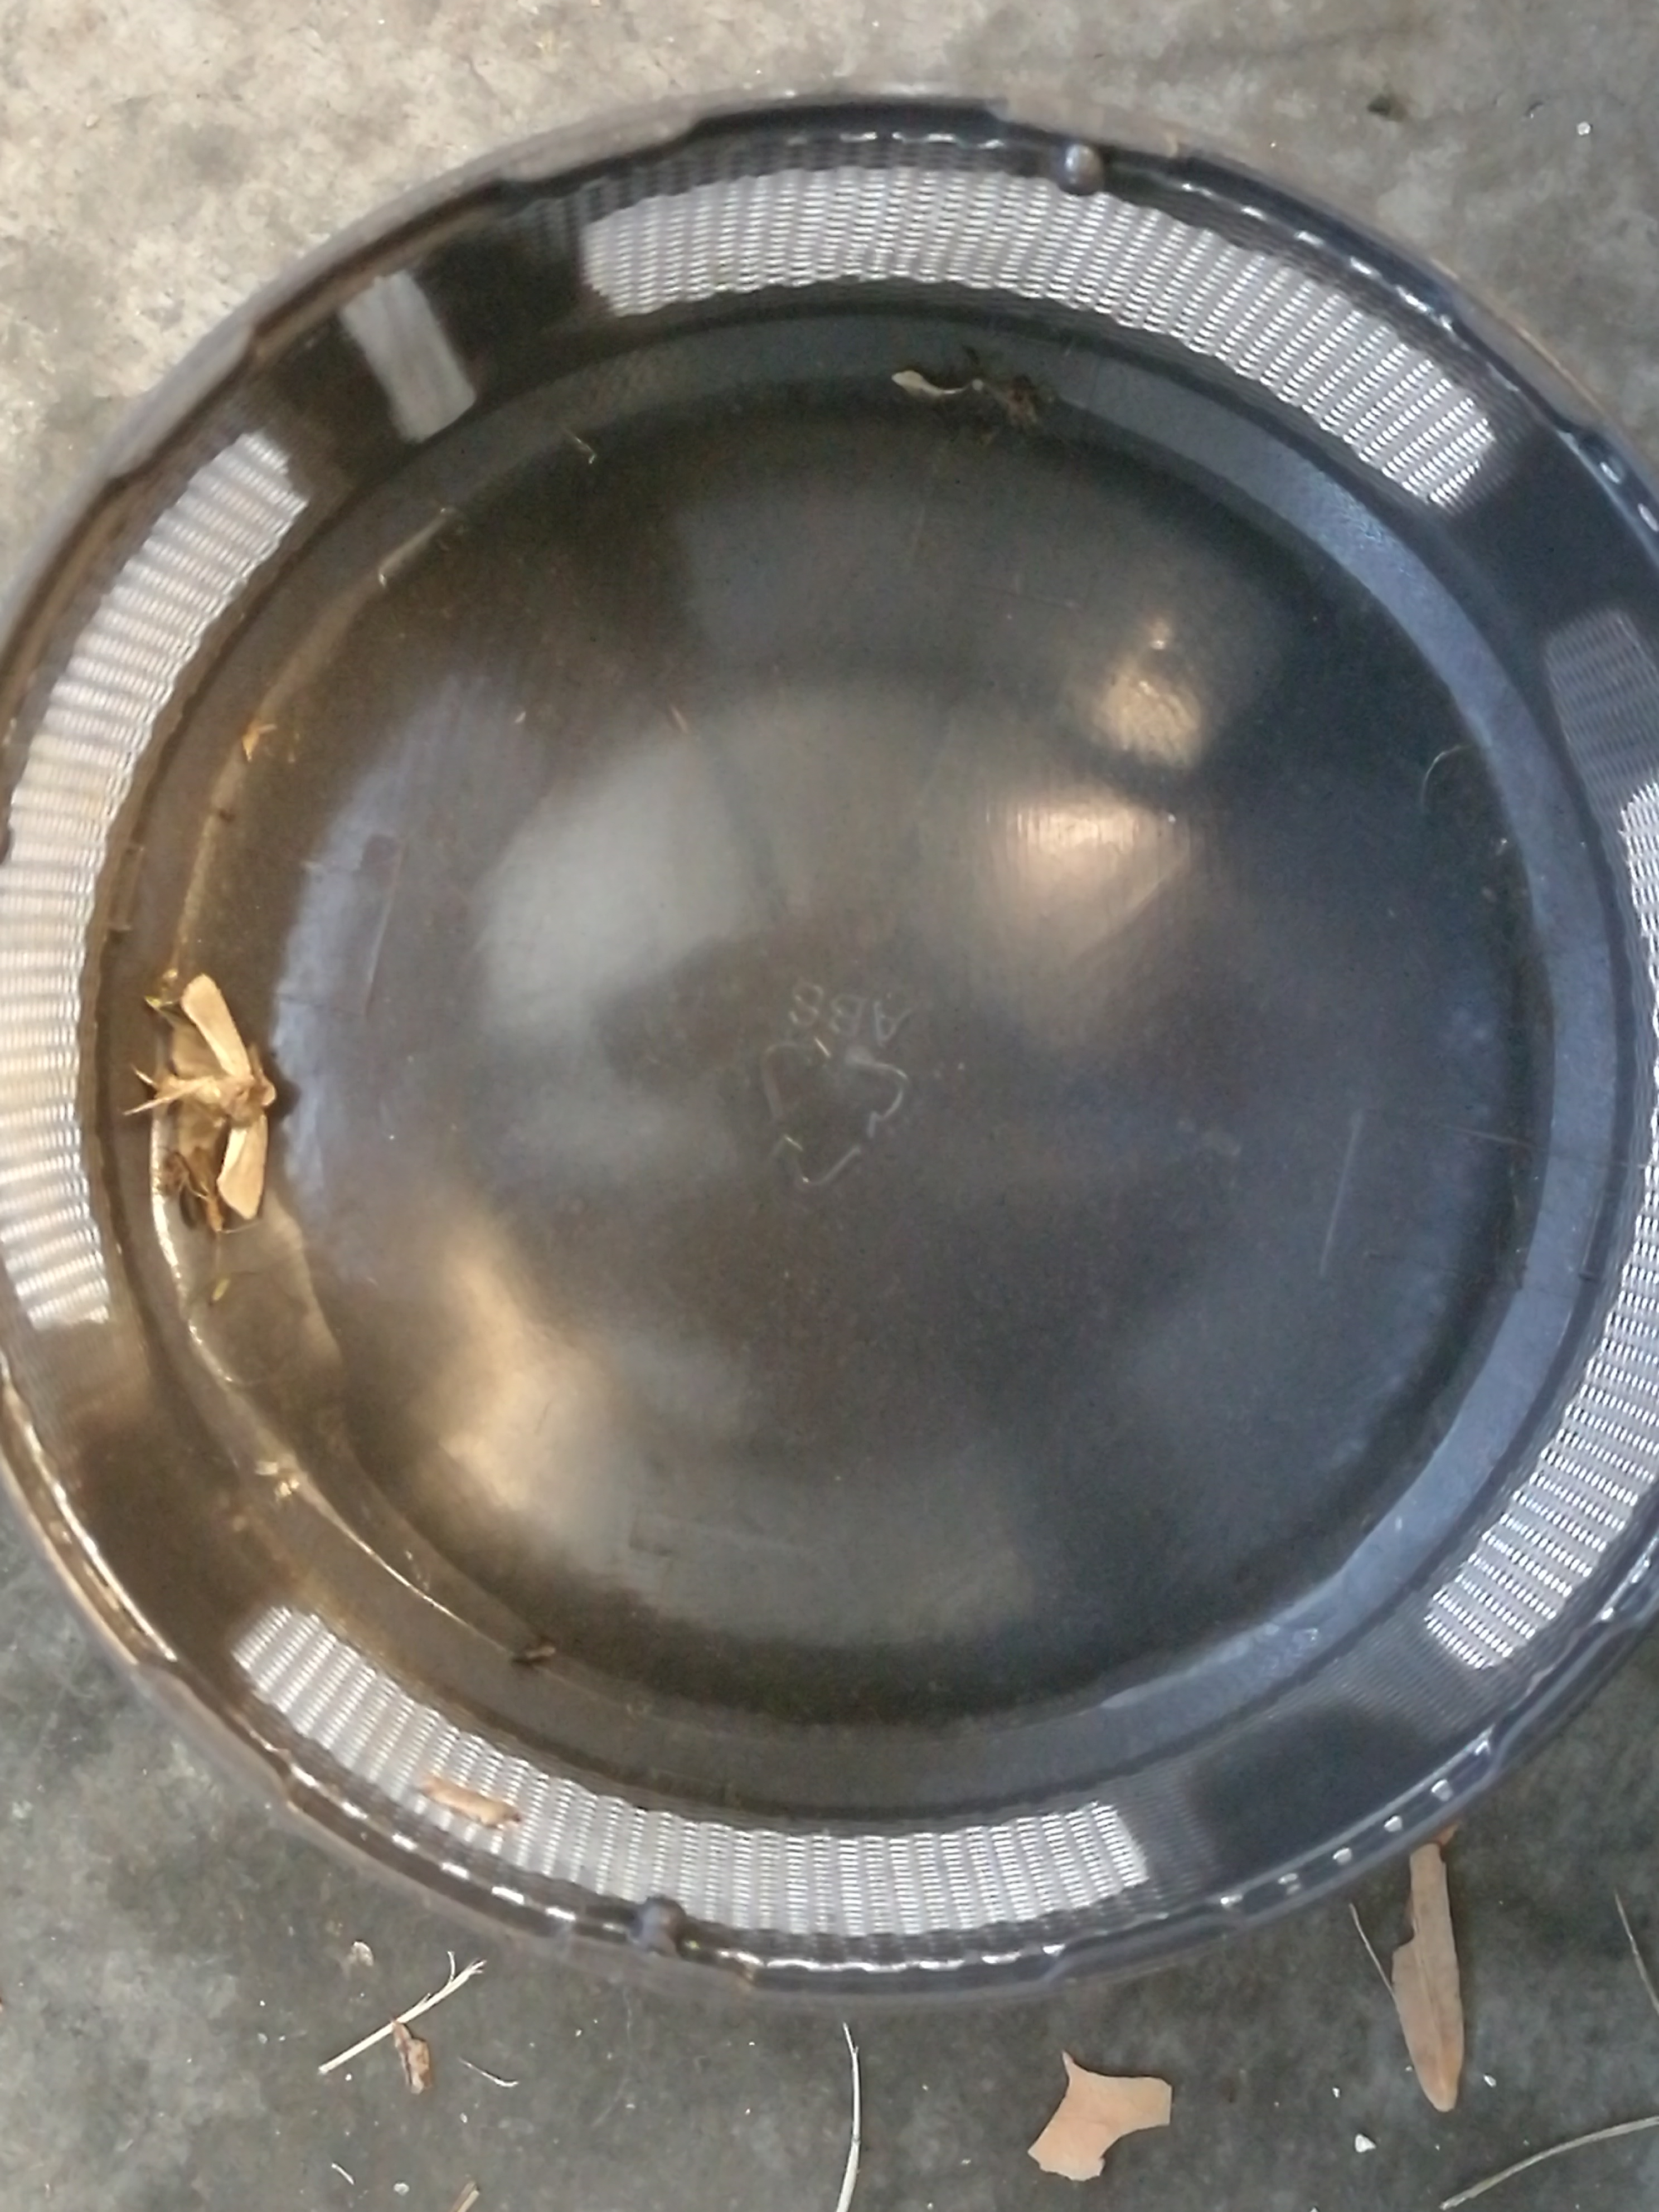beetle: (425, 1780, 521, 1825)
moth: (181, 974, 274, 1217), (181, 1116, 228, 1233)
